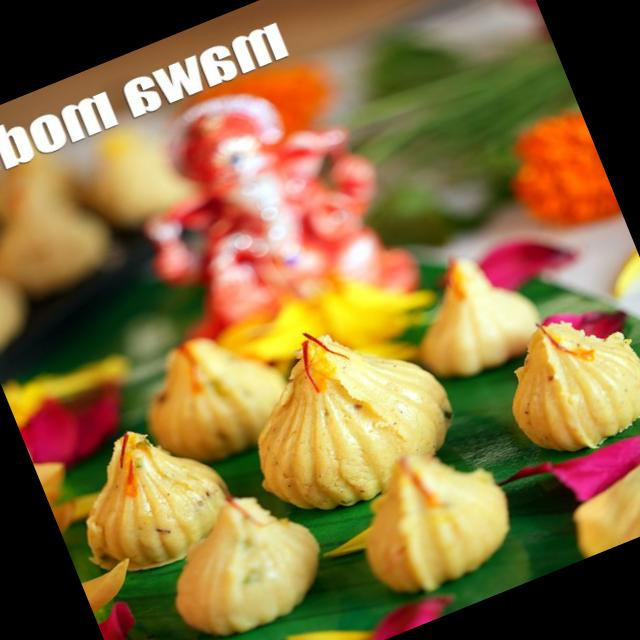modak: (198, 280, 497, 542), (312, 401, 546, 634), (126, 451, 367, 640), (109, 292, 326, 491), (43, 407, 257, 598), (378, 207, 554, 397), (480, 276, 640, 468)
